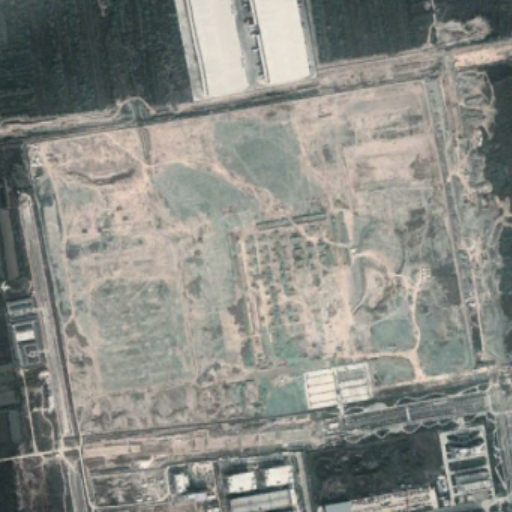cw: (14, 67, 502, 444)
